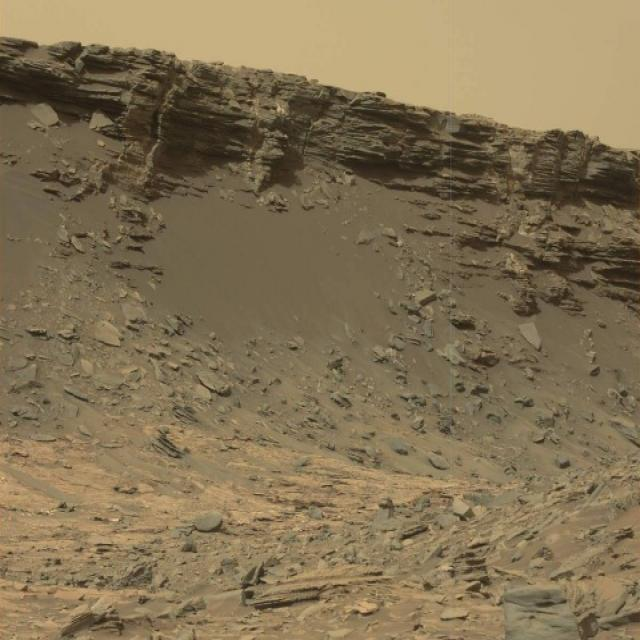rock: (502, 582, 585, 640)
